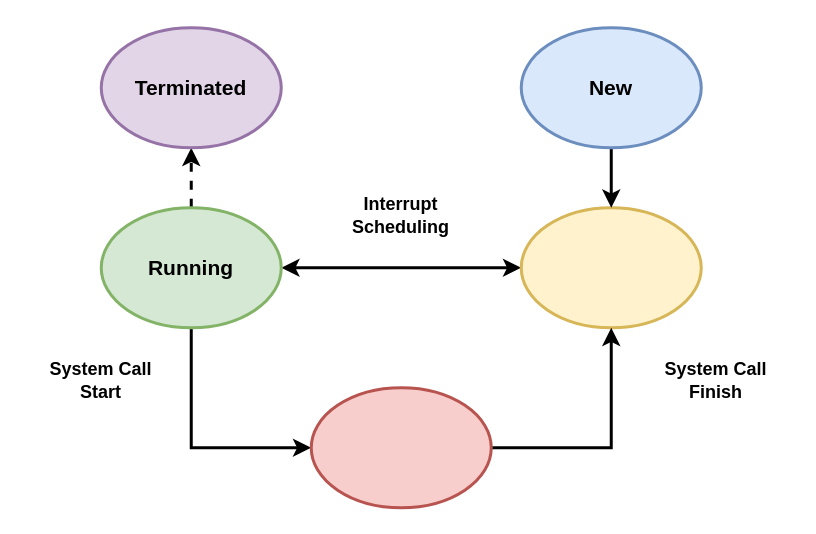
Image size: 816x534. Some labels were removed from this diagram. The shapes that lost their labels are listed below. From the top down, each one's centre as x and y in pixels, then its label:
At point (610, 267): "Ready".
At point (400, 447): "Waiting".
